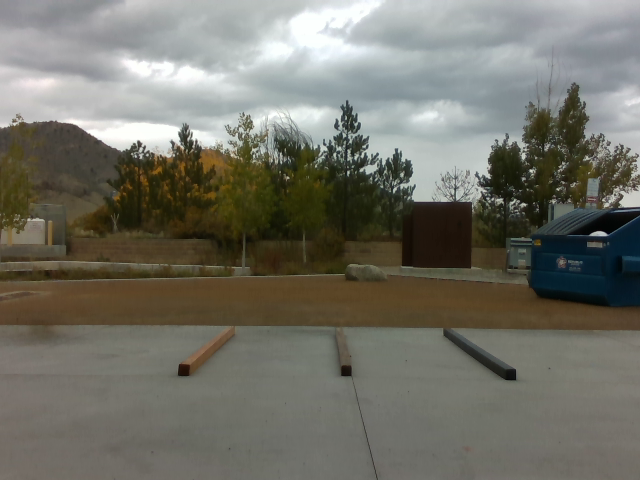dunnage: (174, 322, 532, 386)
